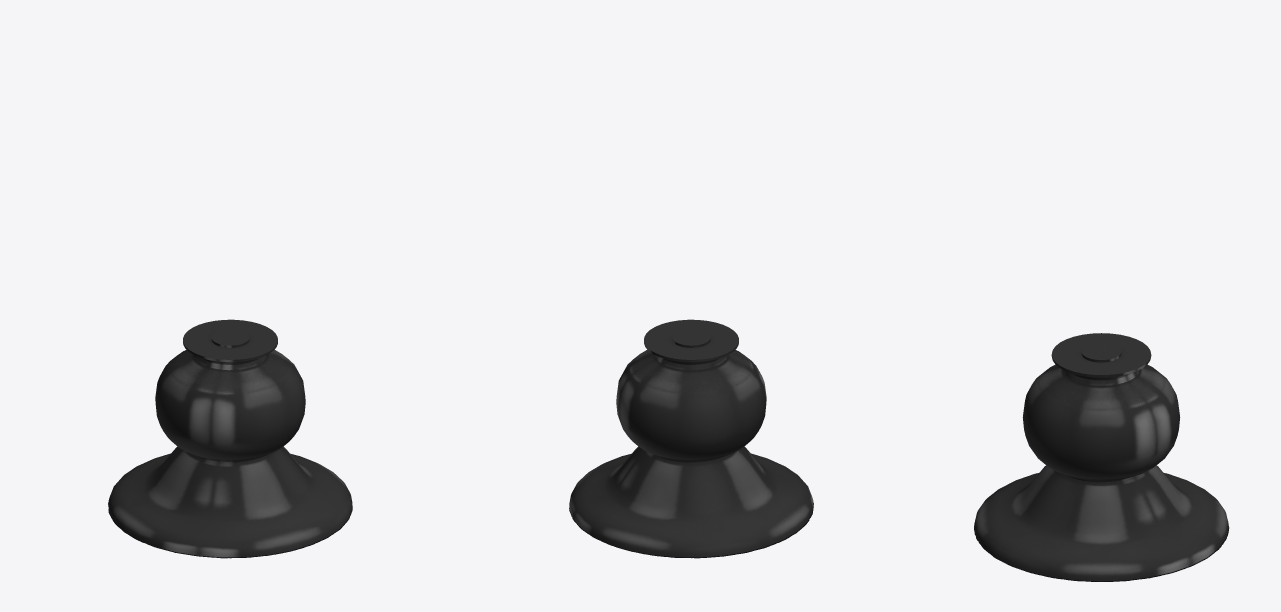
File: raw_model.obj
The picture shows the model from 3 angles, left to right: view 1: azimuth 30°, elevation 25°; view 2: azimuth 150°, elevation 25°; view 3: azimuth 270°, elevation 25°; orthographic projection. The views are drawn at different scales.
Visible parts, largest first — view 1: solid_001; view 2: solid_001; view 3: solid_001.
Part boxes in pixels (x1,y1,x2,y2): solid_001: (108, 319, 352, 557); solid_001: (569, 319, 813, 557); solid_001: (974, 333, 1228, 581).
Bounding box in the file's own units: 0.3042 × 0.4638 × 0.3042.
Materials: 1 (1 with a texture image).
